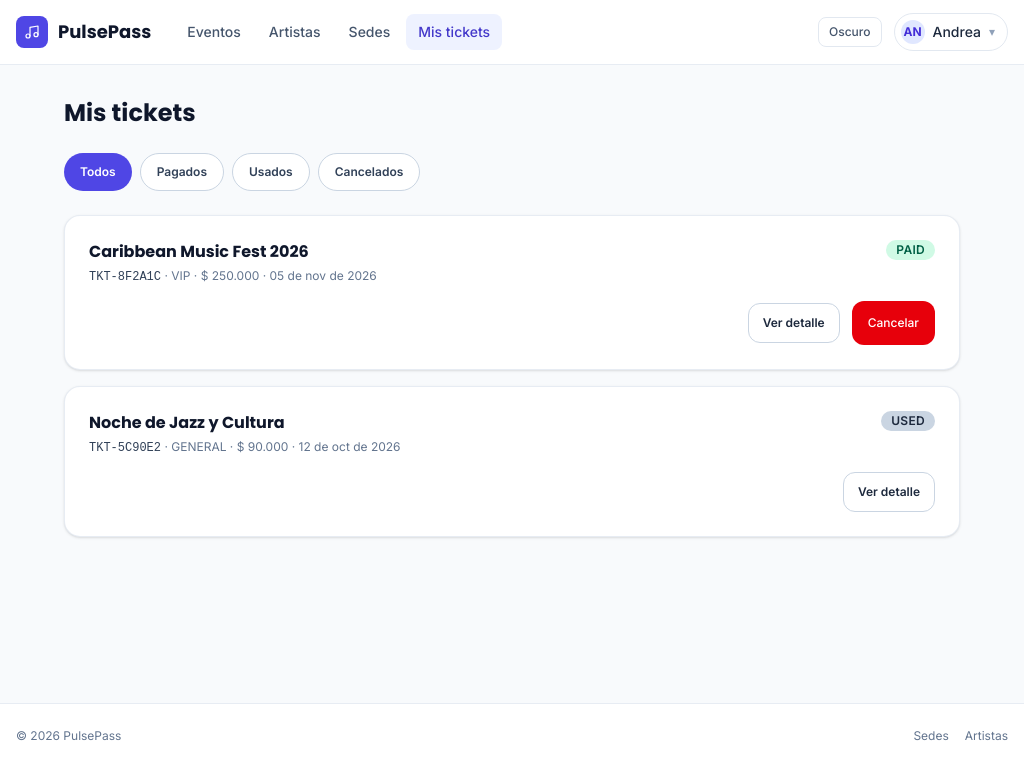
Scenario: 21.4 Tickets (TEST-FE-TKT-*) › TEST-FE-TKT-005 y TEST-FE-TKT-010: mis tickets lista, filtra por estado y oculta cancelar si status !== PAID
The width and height of the screenshot is (1024, 768).
Check: the heading "Caribbean Music Fest 2026" is shown, box [89,240,309,263]
Check: the heading "Noche de Jazz y Cultura" is shown, box [89,411,285,434]
What coordinates should you click on to do the following:
click the button "Usados"
I would click on:
 (271, 172)
Its box is [232,153,310,191].
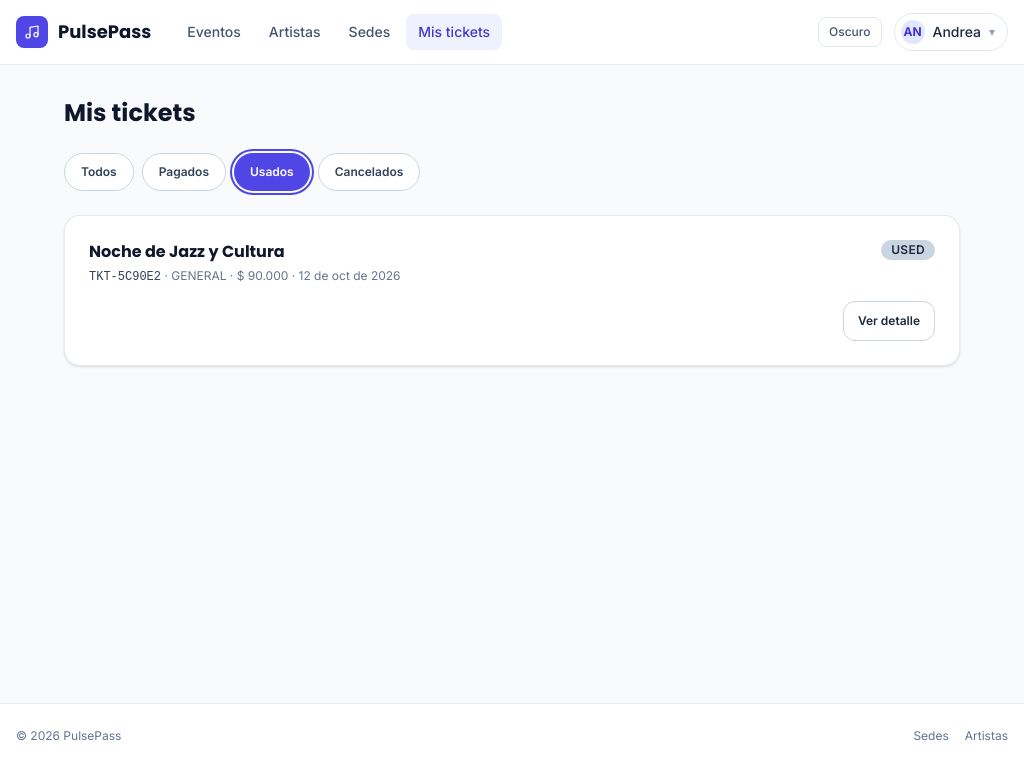
Check: the heading "Noche de Jazz y Cultura" is shown, box [89,240,285,263]
Check: the heading "Caribbean Music Fest 2026" is gone
